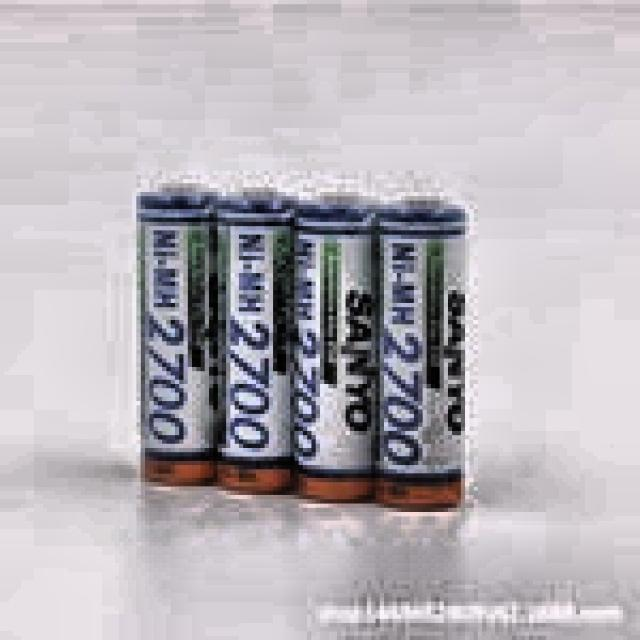battery: (375, 203, 465, 508), (137, 194, 217, 484), (295, 206, 373, 501), (217, 196, 294, 493)
